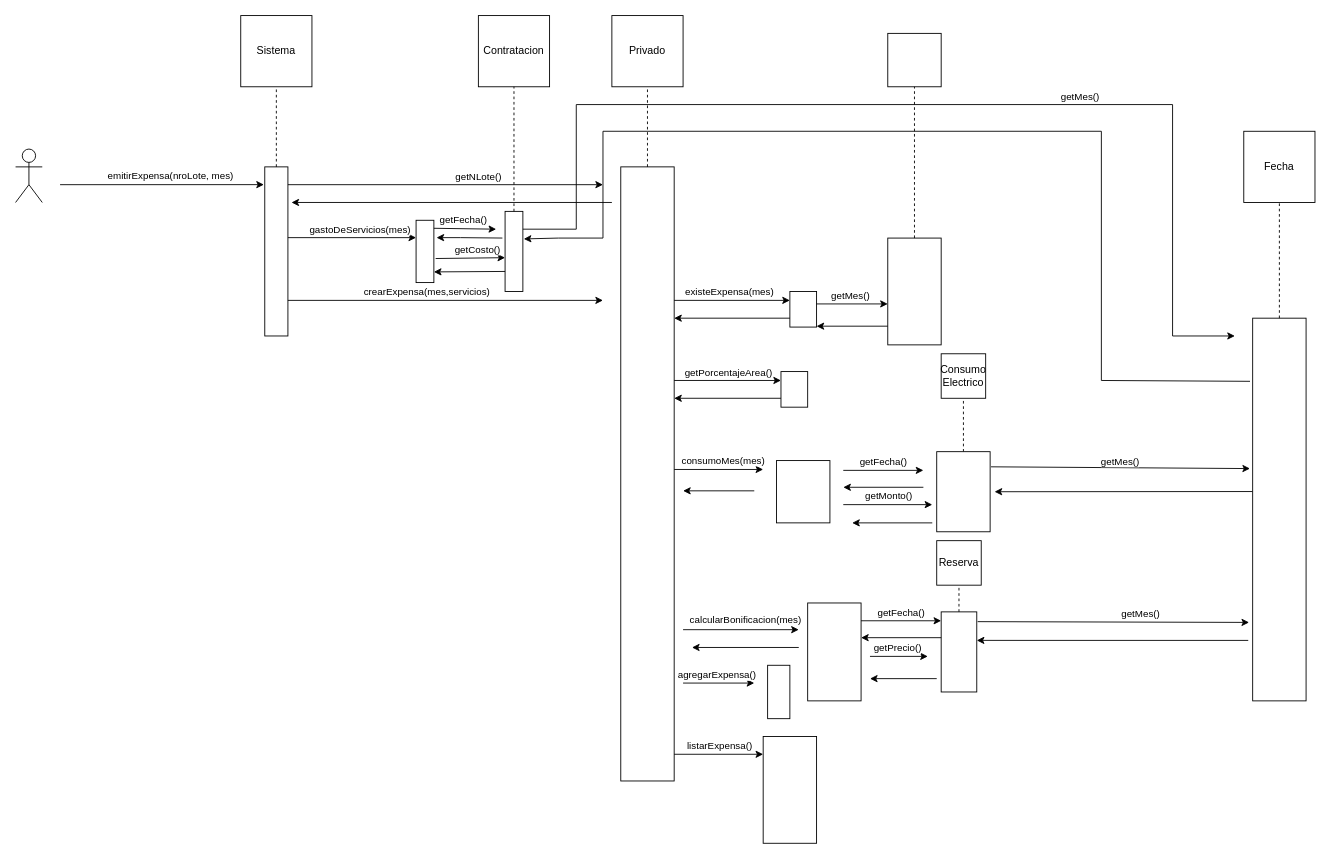
This 1331x859 diagram has some shape labels left out. The shapes that lost their labels are listed below. From the top down, each one's box as (x1, y1, x2, y2) in pixels, then its label:
(887, 32, 941, 87): Expensa
(15, 148, 42, 202): Actor
